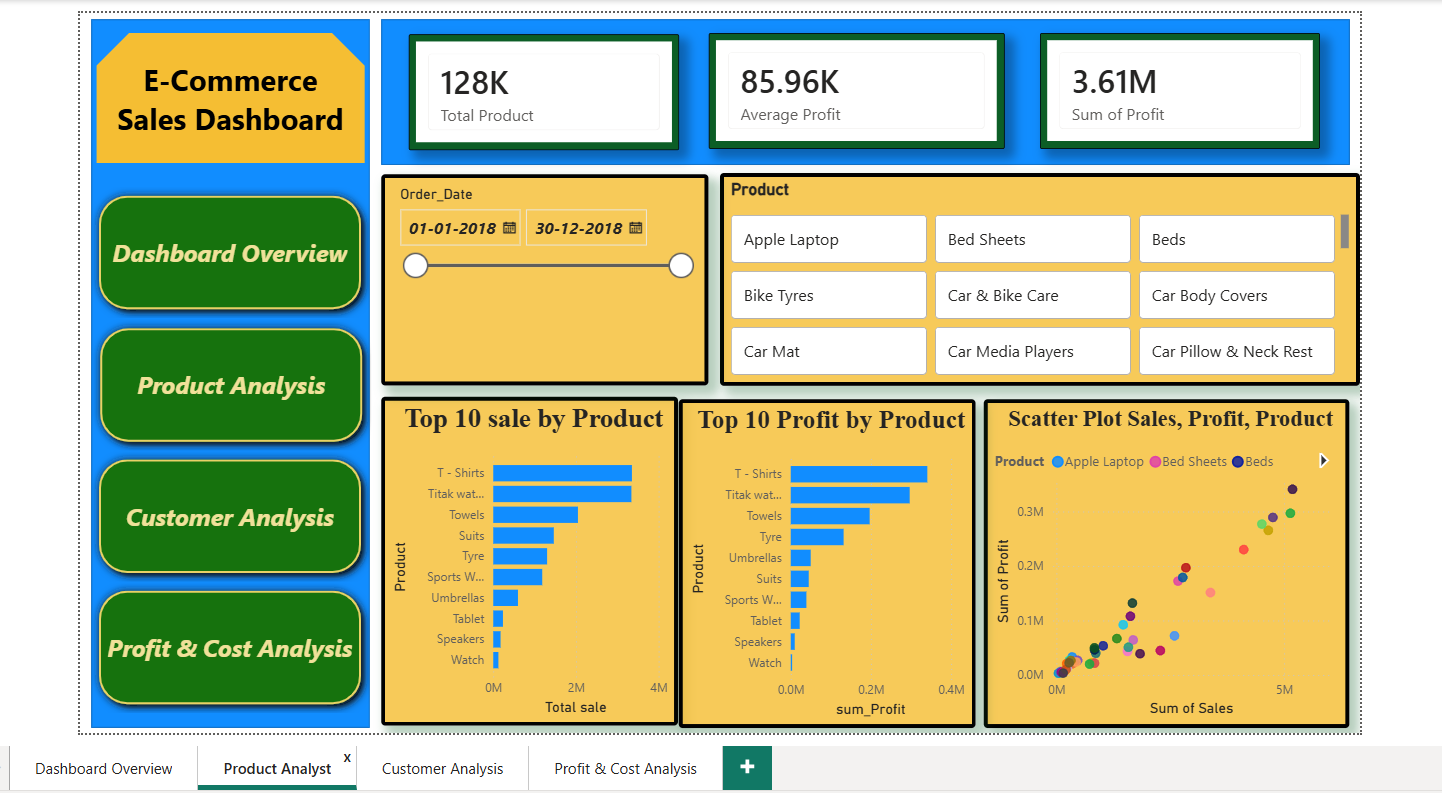

What the dashboard file says about the page in this screenshot:
{"tool":"powerbi","page":{"name":"Product  Analyst","canvas":[1280,720],"ordinal":1},"visuals":[{"type":"shape","box":[11.4,5.7,278.6,708.6],"z":0},{"type":"shape","box":[10,174.3,280,131.4],"z":1000},{"type":"shape","box":[11.4,305.7,280,131.4],"z":2000},{"type":"shape","box":[10,437.1,280,131.4],"z":3000},{"type":"shape","box":[10,568.6,280,131.4],"z":4000},{"type":"shape","box":[301.4,5.7,968.6,145.7],"z":5000},{"type":"cardVisual","fields":{"Data":["E-commerce Dataset.Sum_quantity"]},"box":[328.6,21.4,270,115.7],"z":6000},{"type":"cardVisual","fields":{"Data":["E-commerce Dataset.Average Profit"]},"box":[628.6,20,295.7,115.7],"z":7000},{"type":"cardVisual","fields":{"Data":["Sum(E-commerce Dataset.Profit)"]},"box":[960,20,280,115.7],"z":8000},{"type":"scatterChart","title":"Scatter Plot Sales, Profit, Product","fields":{"X":["Sum(E-commerce Dataset.Sales)"],"Y":["Sum(E-commerce Dataset.Profit)"],"Series":["E-commerce Dataset.Product"]},"box":[904.3,385.7,365.7,328.6],"z":9000},{"type":"clusteredBarChart","title":"Top 10 sale by Product","fields":{"Category":["E-commerce Dataset.Product"],"Y":["E-commerce Dataset.Total sale"]},"box":[301.4,384.3,297.1,328.6],"z":10000},{"type":"advancedSlicerVisual","fields":{"Values":["E-commerce Dataset.Product"]},"box":[640,160,640,212.9],"z":11000},{"type":"slicer","fields":{"Values":["E-commerce Dataset.Order_Date"]},"box":[301.4,161.4,327.1,211.4],"z":12000},{"type":"shape","box":[15.7,20,268.6,130],"z":13000},{"type":"actionButton","box":[28.6,325.7,241.4,91.4],"z":14000},{"type":"actionButton","box":[30,327.1,241.4,91.4],"z":15000},{"type":"actionButton","box":[31.4,194.3,241.4,91.4],"z":16000},{"type":"actionButton","box":[31.4,457.1,241.4,91.4],"z":17000},{"type":"actionButton","box":[31.4,588.6,241.4,91.4],"z":18000},{"type":"clusteredBarChart","title":"Top 10 Profit by Product","fields":{"Category":["E-commerce Dataset.Product"],"Y":["E-commerce Dataset.sum_Profit"]},"box":[598.6,385.7,297.1,328.6],"z":19000}]}

Visuals, with their boxes on the page's 1280x720 design canvas (x1, y1, x2, y2). These are canvas units, not pixel positions in the 1442x793 screenshot, which may show the page scaled, cropped or inside an application window:
shape: [11,6,290,714]
shape: [10,174,290,306]
shape: [11,306,291,437]
shape: [10,437,290,568]
shape: [10,569,290,700]
shape: [301,6,1270,151]
cardVisual - E-commerce Dataset.Sum_quantity: [329,21,599,137]
cardVisual - E-commerce Dataset.Average Profit: [629,20,924,136]
cardVisual - Sum(E-commerce Dataset.Profit): [960,20,1240,136]
"Scatter Plot Sales, Profit, Product" scatterChart: [904,386,1270,714]
"Top 10 sale by Product" clusteredBarChart: [301,384,598,713]
advancedSlicerVisual - E-commerce Dataset.Product: [640,160,1280,373]
slicer - E-commerce Dataset.Order_Date: [301,161,628,373]
shape: [16,20,284,150]
actionButton: [29,326,270,417]
actionButton: [30,327,271,418]
actionButton: [31,194,273,286]
actionButton: [31,457,273,548]
actionButton: [31,589,273,680]
"Top 10 Profit by Product" clusteredBarChart: [599,386,896,714]
